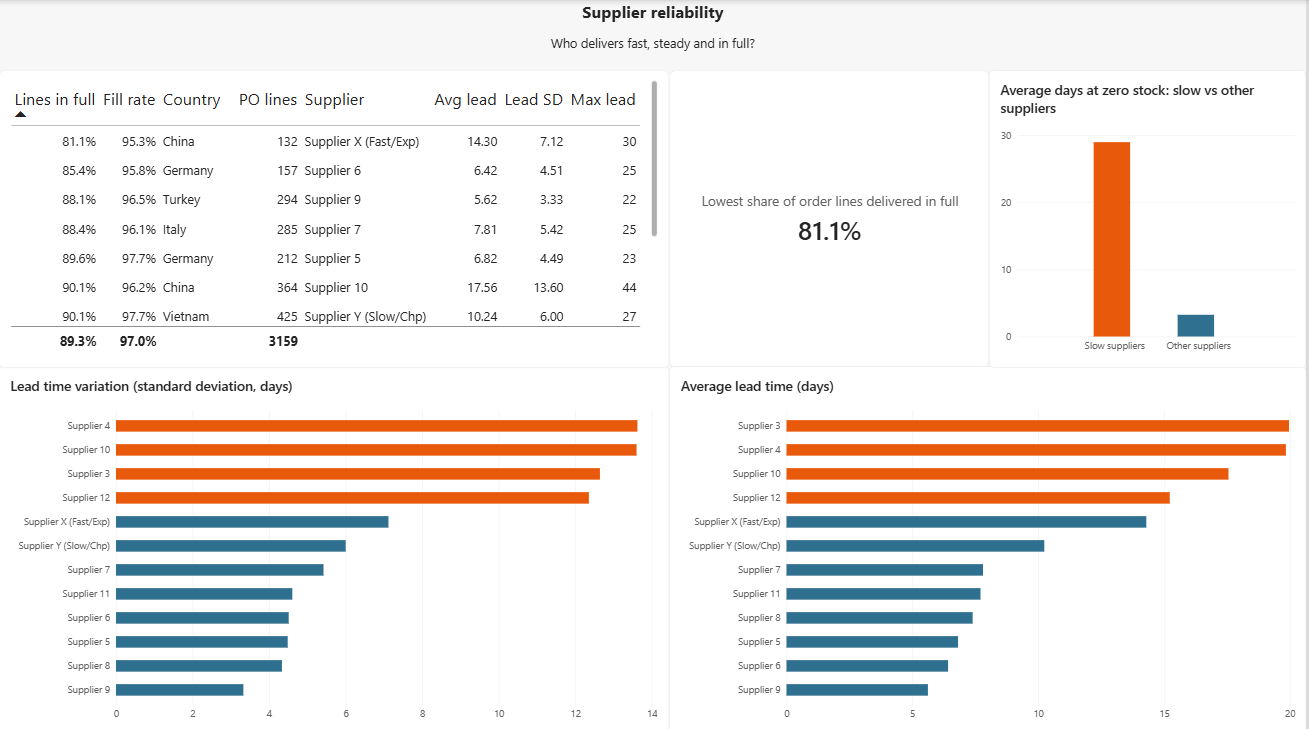

Layout of this report page (visuals, bound fields, positions):
{"tool":"powerbi","page":{"name":"Suppliers","canvas":[1920,1080],"ordinal":1},"visuals":[{"type":"clusteredBarChart","title":"Average lead time (days)","fields":{"Category":["supplier_scorecard.supplier_name"],"Y":["Avg(supplier_scorecard.avg_lead_days)"]},"box":[983.3,538.1,935.7,542.9],"z":0},{"type":"clusteredBarChart","title":"Lead time variation (standard deviation, days)","fields":{"Category":["supplier_scorecard.supplier_name"],"Y":["Avg(supplier_scorecard.sd_lead_days)"]},"box":[0,538.1,983.3,542.9],"z":1000},{"type":"tableEx","fields":{"Values":["supplier_scorecard.share_of_lines_in_full","supplier_scorecard.fill_rate","supplier_scorecard.supplier_country","supplier_scorecard.po_lines","supplier_scorecard.supplier_name","supplier_scorecard.avg_lead_days","supplier_scorecard.sd_lead_days","supplier_scorecard.max_lead_days"]},"box":[0,102.4,983.3,435.7],"z":2000},{"type":"cardVisual","fields":{"Data":["Min(supplier_scorecard.share_of_lines_in_full)"]},"box":[983.3,102.4,469,435.7],"z":3000},{"type":"columnChart","title":"Average days at zero stock: slow vs other suppliers","fields":{"Category":["reorder_vs_stock.Supplier group"],"Y":["Avg(reorder_vs_stock.stockout_days)"]},"box":[1452.4,102.4,466.7,435.7],"z":4000},{"type":"textbox","box":[0,0,1919,102.4],"z":5000}]}

Visuals, with their boxes in screenshot pixels (x1, y1, x2, y2), scaled from the page's 1920x1080 canvas onto the 1309x729 screenshot:
"Average lead time (days)" clusteredBarChart: bbox=(670, 363, 1308, 728)
"Lead time variation (standard deviation, days)" clusteredBarChart: bbox=(0, 363, 670, 728)
tableEx - supplier_scorecard.share_of_lines_in_full x supplier_scorecard.fill_rate: bbox=(0, 69, 670, 363)
cardVisual - Min(supplier_scorecard.share_of_lines_in_full): bbox=(670, 69, 990, 363)
"Average days at zero stock: slow vs other suppliers" columnChart: bbox=(990, 69, 1308, 363)
textbox: bbox=(0, 0, 1308, 69)
